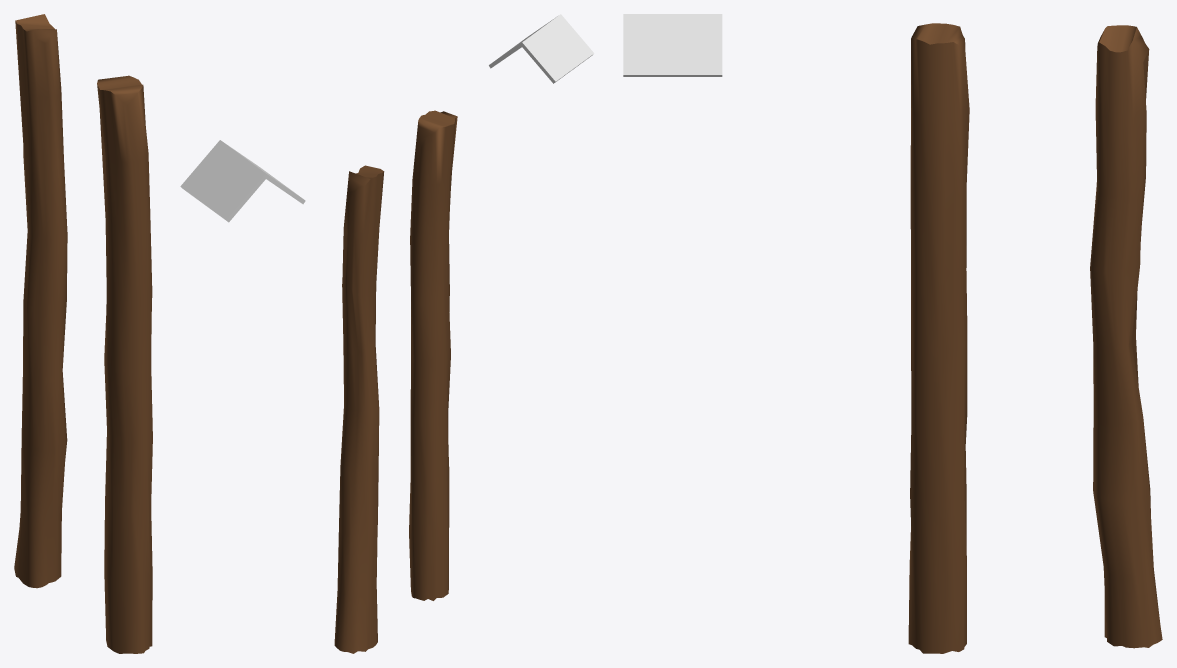
Rendered from FencePoles.fbx.
3 views of the same model, side by side, from view 1: azimuth 30°, elevation 25°; view 2: azimuth 150°, elevation 25°; view 3: azimuth 270°, elevation 25° (orthographic). The views are drawn at different scales.
Visible parts, largest first — view 1: pole1, Pole2, TopPiece; view 2: pole1, Pole2, TopPiece; view 3: pole1, Pole2, TopPiece.
Boxes of the visible parts, left/top/right/bottom form: pole1: left=97, top=75, right=152, bottom=653; Pole2: left=14, top=14, right=67, bottom=588; TopPiece: left=180, top=140, right=305, bottom=222; pole1: left=409, top=110, right=457, bottom=600; Pole2: left=334, top=165, right=384, bottom=653; TopPiece: left=489, top=14, right=594, bottom=83; pole1: left=908, top=23, right=969, bottom=653; Pole2: left=1090, top=25, right=1162, bottom=648; TopPiece: left=623, top=14, right=722, bottom=76.
Bounding box in the file's own units: 16.23 × 113 × 88.27.
